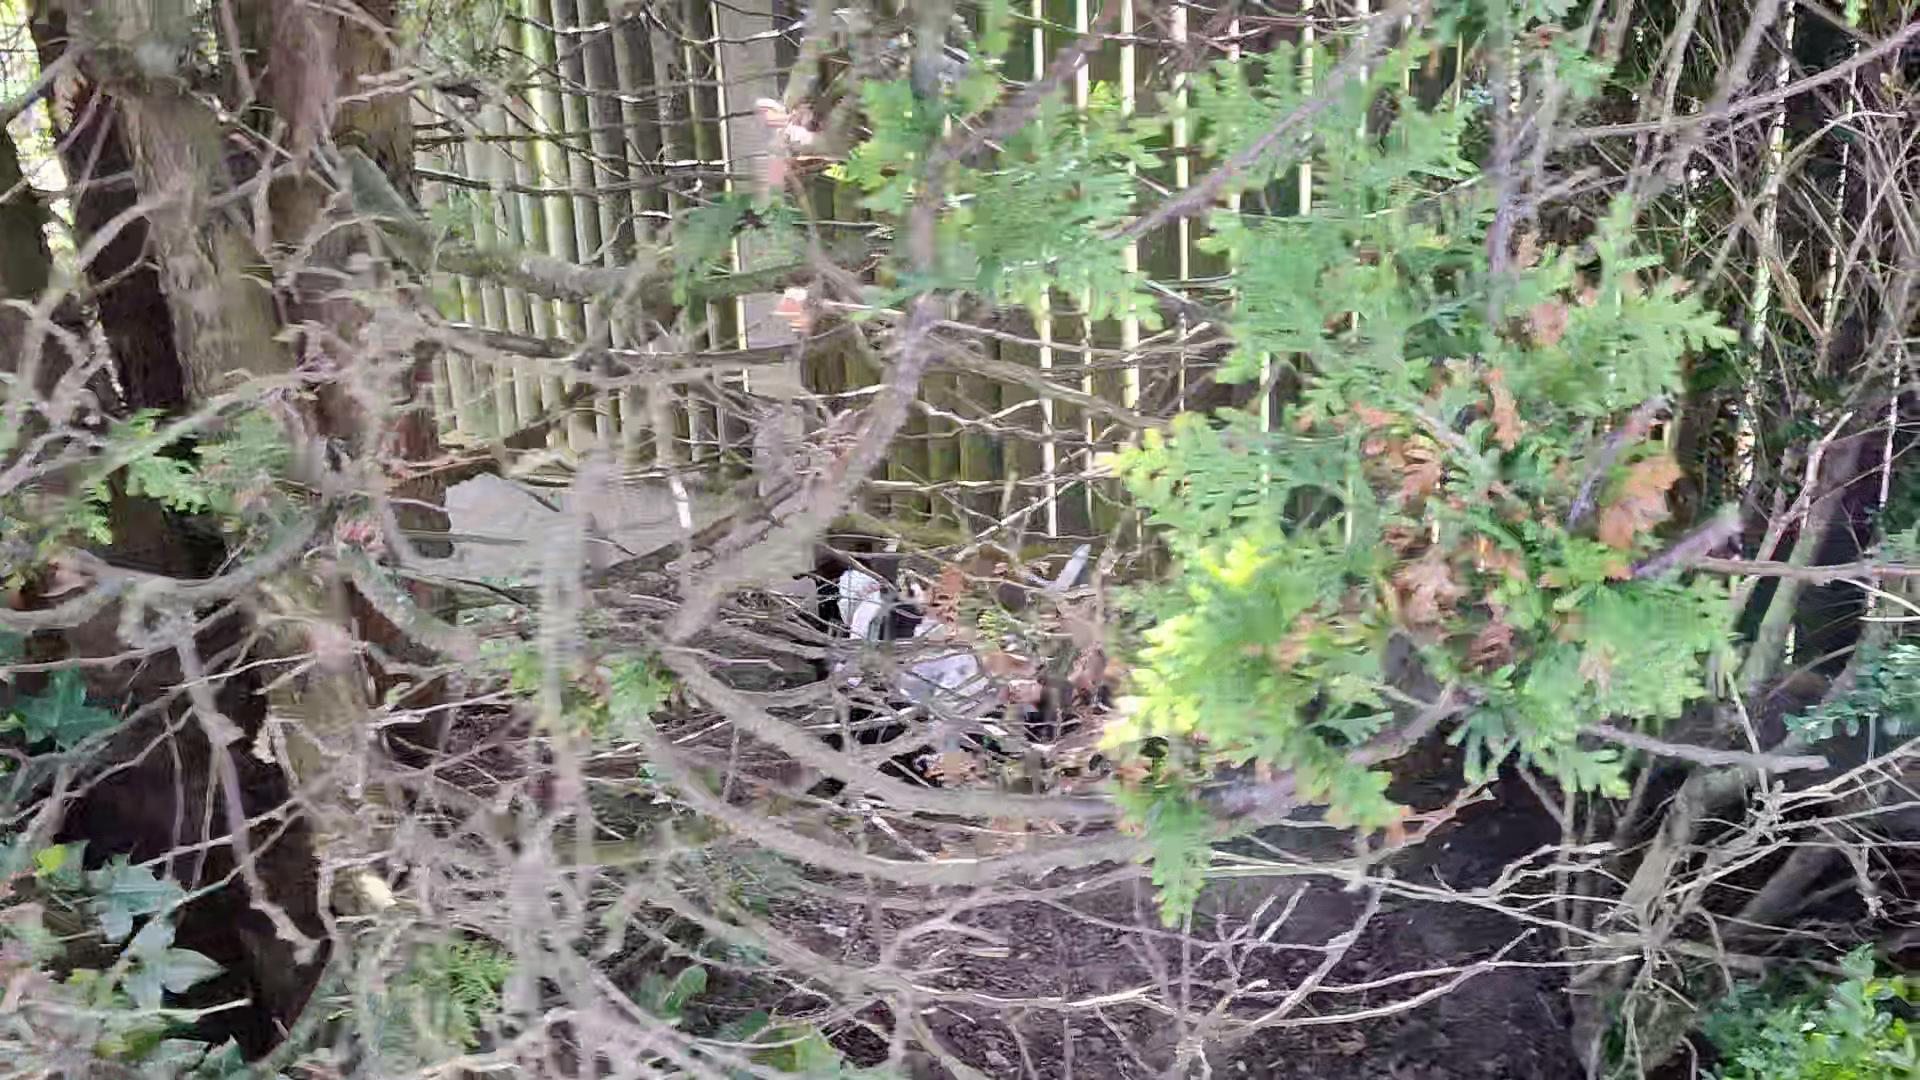Dog: (790, 527, 1095, 804)
